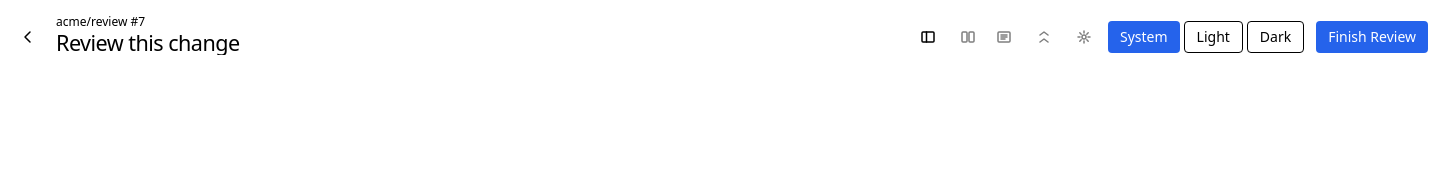
Test: ReviewToolbar › exposes the Back tooltip accessibly when the icon button receives focus
Focus the button named "Back to inbox": point(28, 36) [12,20,44,52]
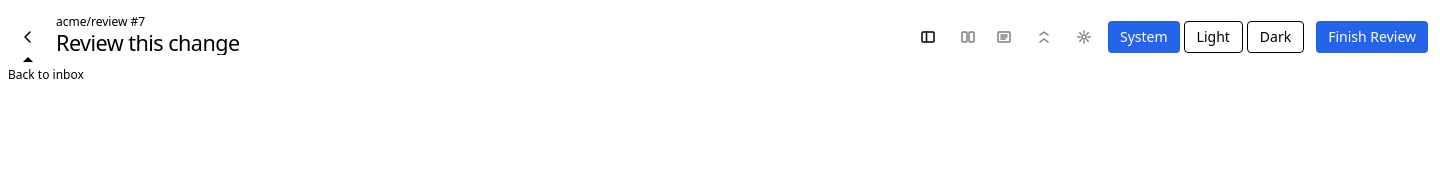
Check: the tooltip "Back to inbox" is shown, box [8,57,84,83]
